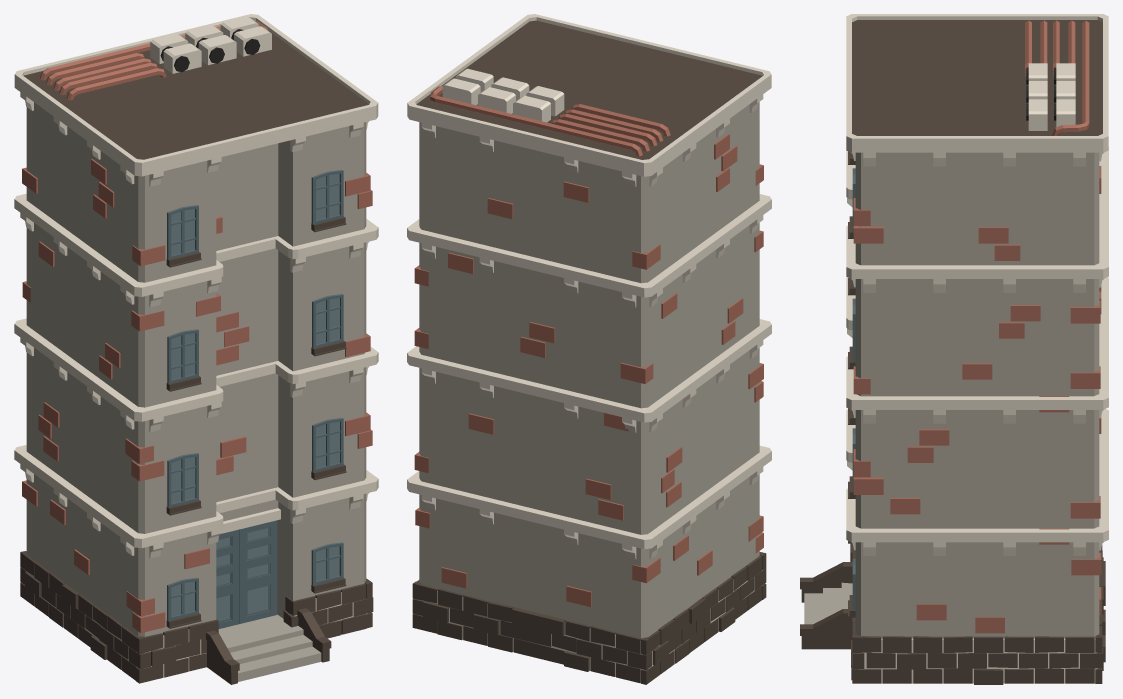
The model's file is cairo-block-4story-centre.glb.
3 views of the same model, side by side, from view 1: azimuth 30°, elevation 25°; view 2: azimuth 150°, elevation 25°; view 3: azimuth 270°, elevation 25° (orthographic). The views are drawn at different scales.
Size of the model in its own units: 2.42 by 5.09 by 2.53.
